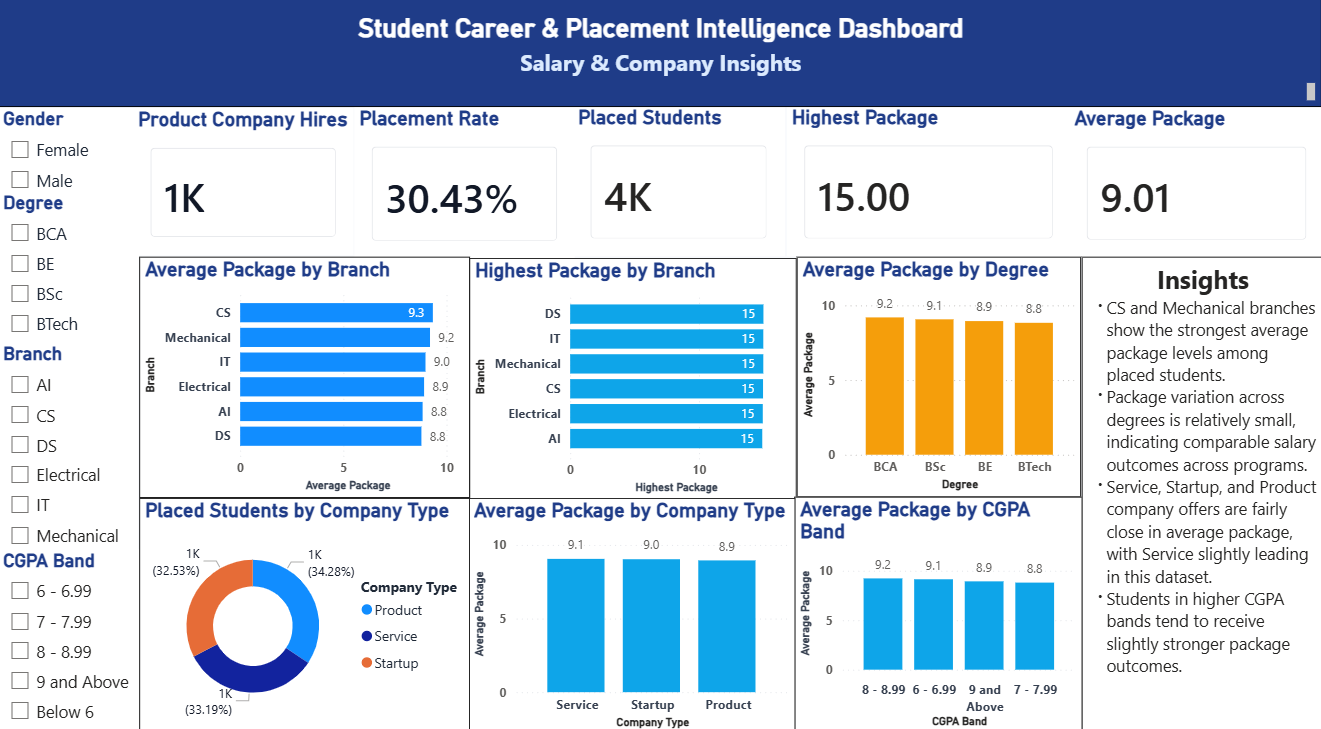

The page's visual inventory and layout, read from the dashboard file:
{"tool":"powerbi","page":{"name":"Salary & Company Insights","canvas":[1280,720],"ordinal":2},"visuals":[{"type":"cardVisual","title":"Placement Rate","fields":{"Data":["Indian_Student_Placement_Dataset_2025.Placement Rate %"]},"box":[343.5,115.2,213.2,147],"z":0},{"type":"cardVisual","title":"Placed Students","fields":{"Data":["Indian_Student_Placement_Dataset_2025.Placed Students"]},"box":[555,113.9,204.8,145.8],"z":1000},{"type":"cardVisual","title":"Highest Package","fields":{"Data":["Indian_Student_Placement_Dataset_2025.Highest Package"]},"box":[760.8,113,274.4,145.8],"z":2000},{"type":"cardVisual","title":"Average Package","fields":{"Data":["Indian_Student_Placement_Dataset_2025.Average Package"]},"box":[1034,115.2,246.2,145.8],"z":3000},{"type":"slicer","title":"Gender","fields":{"Values":["Indian_Student_Placement_Dataset_2025.Gender"]},"box":[0,116.4,137.5,91.9],"z":4000},{"type":"slicer","title":"Degree","fields":{"Values":["Indian_Student_Placement_Dataset_2025.Degree"]},"box":[0,196.5,136,152.6],"z":5000},{"type":"slicer","title":"Branch","fields":{"Values":["Indian_Student_Placement_Dataset_2025.Branch"]},"box":[0,343,135.5,207],"z":6000},{"type":"slicer","title":"CGPA Band","fields":{"Values":["Indian_Student_Placement_Dataset_2025.CGPA Band"]},"box":[0,541.5,136.5,177.6],"z":7000},{"type":"clusteredBarChart","fields":{"Category":["Indian_Student_Placement_Dataset_2025.Branch"],"Y":["Indian_Student_Placement_Dataset_2025.Highest Package"]},"box":[454.5,261,316.3,234],"z":8000},{"type":"clusteredColumnChart","fields":{"Y":["Indian_Student_Placement_Dataset_2025.Average Package"],"Category":["Indian_Student_Placement_Dataset_2025.Degree"]},"box":[770.6,259.7,274.4,232.3],"z":9000},{"type":"textbox","title":"Student Career & Placement Intelligence Dashboard","box":[0,3.2,1277.8,111.5],"z":10000},{"type":"clusteredColumnChart","fields":{"Category":["Indian_Student_Placement_Dataset_2025.CGPA Band"],"Y":["Indian_Student_Placement_Dataset_2025.Average Package"]},"box":[768.1,491.3,278.3,229.1],"z":11000},{"type":"clusteredColumnChart","fields":{"Y":["Indian_Student_Placement_Dataset_2025.Average Package"],"Category":["Indian_Student_Placement_Dataset_2025.Company Type"]},"box":[453.3,491.8,316.1,228.6],"z":12000},{"type":"clusteredBarChart","fields":{"Category":["Indian_Student_Placement_Dataset_2025.Branch"],"Y":["Indian_Student_Placement_Dataset_2025.Average Package"]},"box":[136,259.7,319.3,232.8],"z":13000},{"type":"textbox","box":[1046,259.7,234.2,459.4],"z":14000},{"type":"donutChart","title":"Placed Students by Company Type","fields":{"Category":["Indian_Student_Placement_Dataset_2025.Company Type"],"Y":["Indian_Student_Placement_Dataset_2025.Placed Students"]},"box":[136,492.5,319,226.6],"z":15000},{"type":"cardVisual","title":"Product Company Hires","fields":{"Data":["Indian_Student_Placement_Dataset_2025.Product Company Hires"]},"box":[129.9,116.4,213.2,142.1],"z":15001}]}

Visuals, with their boxes in screenshot pixels (x1, y1, x2, y2), scaled from the page's 1280x720 canvas onto the 1321x729 screenshot:
"Placement Rate" cardVisual: bbox=(355, 117, 575, 265)
"Placed Students" cardVisual: bbox=(573, 115, 784, 263)
"Highest Package" cardVisual: bbox=(785, 114, 1068, 262)
"Average Package" cardVisual: bbox=(1067, 117, 1320, 264)
"Gender" slicer: bbox=(0, 118, 142, 211)
"Degree" slicer: bbox=(0, 199, 140, 353)
"Branch" slicer: bbox=(0, 347, 140, 557)
"CGPA Band" slicer: bbox=(0, 548, 141, 728)
clusteredBarChart - Indian_Student_Placement_Dataset_2025.Branch x Indian_Student_Placement_Dataset_2025.Highest Package: bbox=(469, 264, 795, 501)
clusteredColumnChart - Indian_Student_Placement_Dataset_2025.Average Package x Indian_Student_Placement_Dataset_2025.Degree: bbox=(795, 263, 1078, 498)
"Student Career & Placement Intelligence Dashboard" textbox: bbox=(0, 3, 1319, 116)
clusteredColumnChart - Indian_Student_Placement_Dataset_2025.CGPA Band x Indian_Student_Placement_Dataset_2025.Average Package: bbox=(793, 497, 1080, 728)
clusteredColumnChart - Indian_Student_Placement_Dataset_2025.Average Package x Indian_Student_Placement_Dataset_2025.Company Type: bbox=(468, 498, 794, 728)
clusteredBarChart - Indian_Student_Placement_Dataset_2025.Branch x Indian_Student_Placement_Dataset_2025.Average Package: bbox=(140, 263, 470, 499)
textbox: bbox=(1080, 263, 1320, 728)
"Placed Students by Company Type" donutChart: bbox=(140, 499, 470, 728)
"Product Company Hires" cardVisual: bbox=(134, 118, 354, 262)
